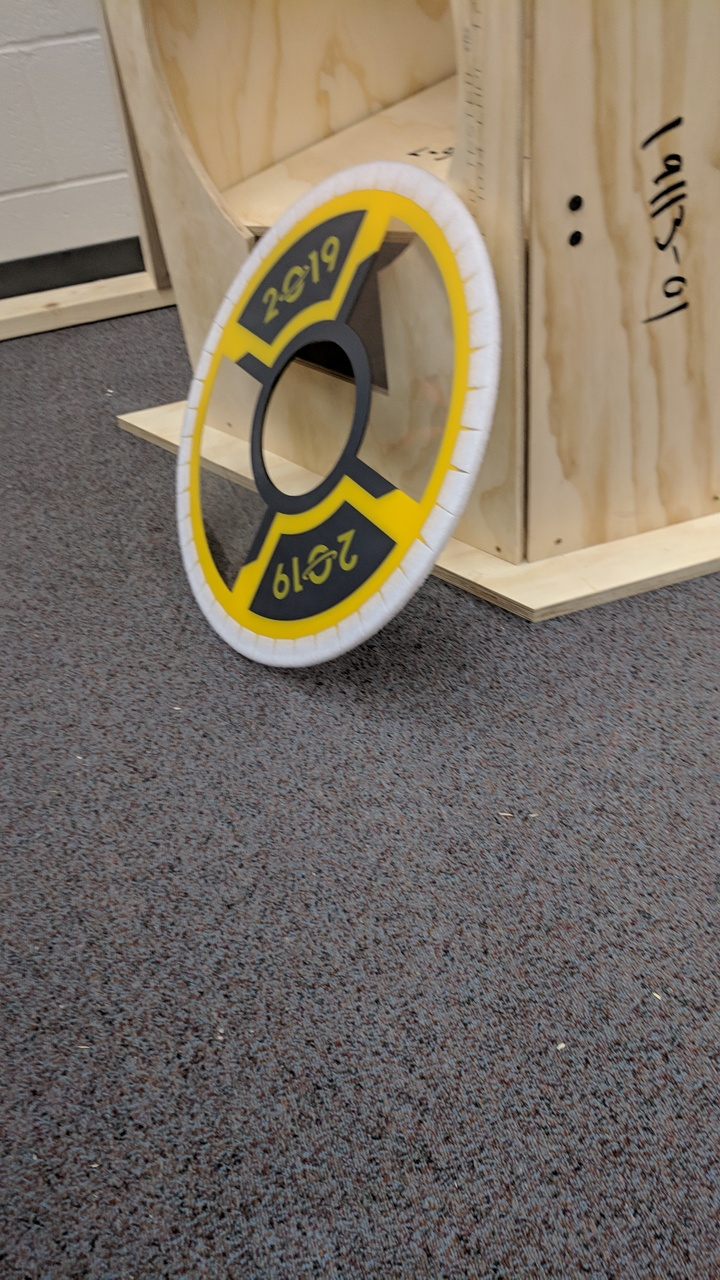hatch_panel: (179, 153, 498, 710)
